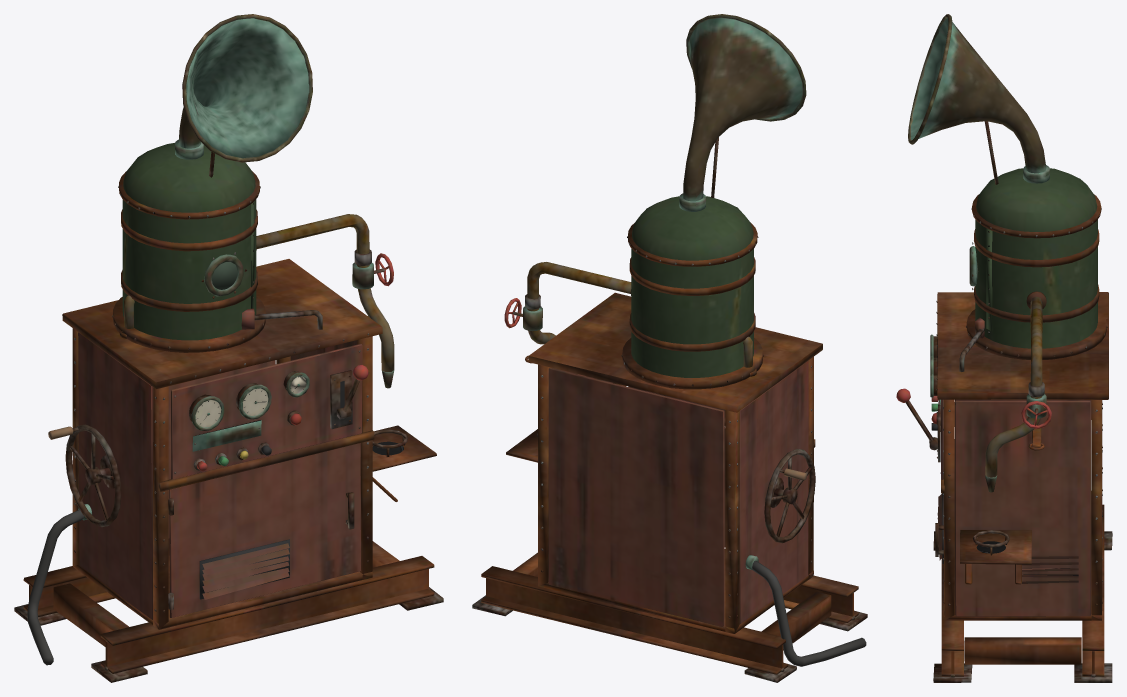
Rendered from joy_machine.glb.
3 renders of one model, left to right at view 1: azimuth 30°, elevation 25°; view 2: azimuth 150°, elevation 25°; view 3: azimuth 270°, elevation 25°, orthographic. The views are drawn at different scales.
Parts seen in each view (by area): view 1: joy_machine; view 2: joy_machine; view 3: joy_machine.
Part boxes in pixels (x1,y1,x2,y2): joy_machine: [14, 14, 443, 682]; joy_machine: [472, 14, 867, 682]; joy_machine: [896, 14, 1112, 682].
Size of the model in its own units: 1.74 by 2.8 by 0.9539.
1 material, 1 textured.
